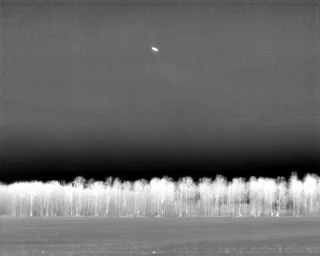DRONE: (148, 43, 162, 56)
